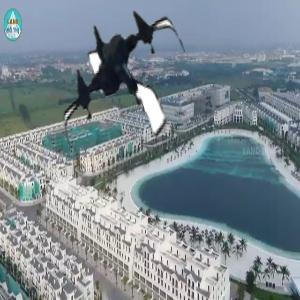drone: (47, 10, 202, 165)
